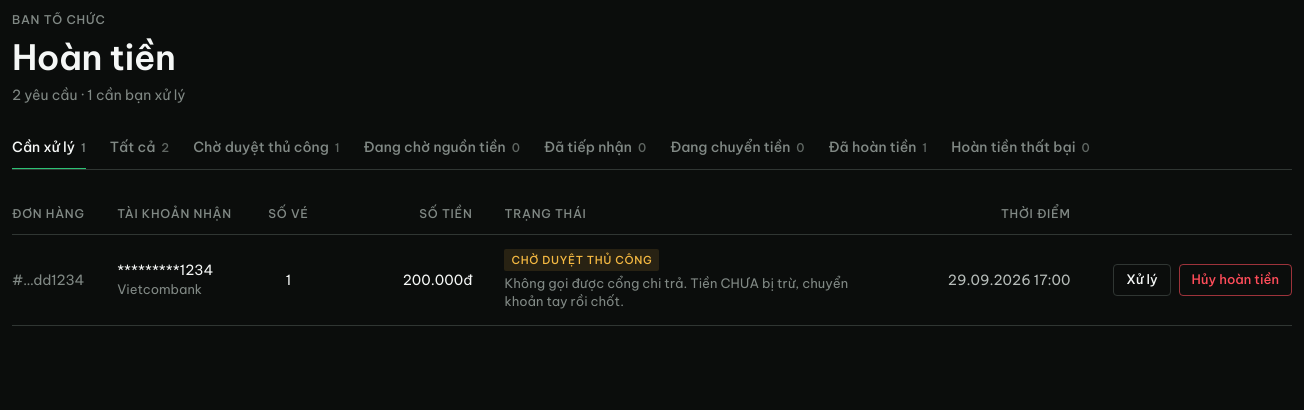
Test: RefundsPage › đổi tab ghi lên URL và lọc lại danh sách
This screenshot has width=1304, height=410.
Click the tab "Tất cả 2": (140,153) [110, 137, 169, 169]
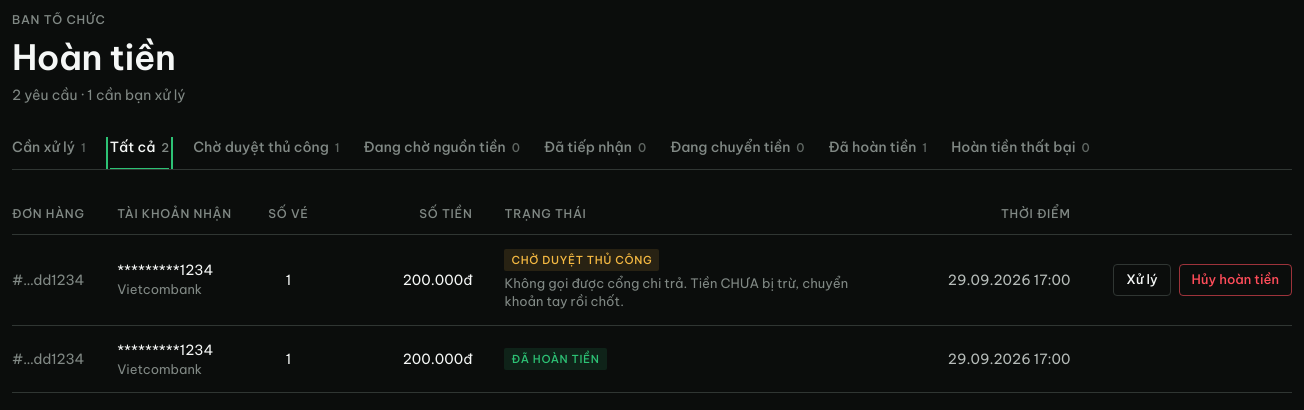
Check: the number of rows is 3, box [12, 194, 1292, 234]; [12, 234, 1292, 325]; [12, 325, 1292, 393]
